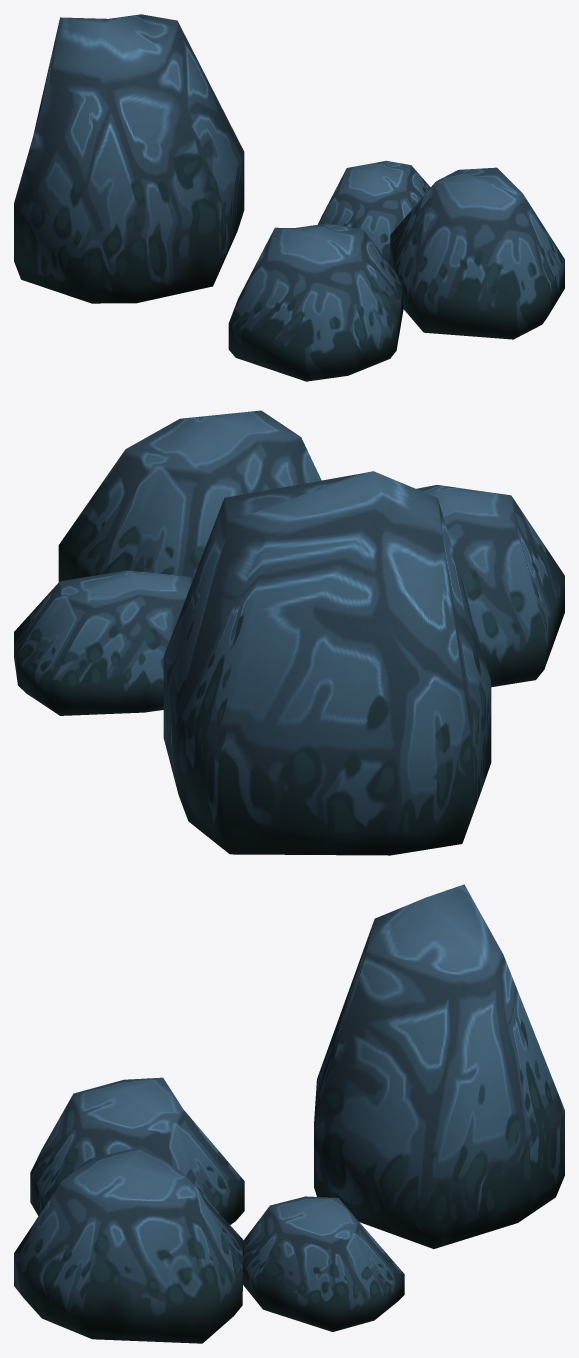
Rendered from RockGroup2.FBX.
The picture shows the model from 3 angles, top to bottom: view 1: azimuth 30°, elevation 25°; view 2: azimuth 150°, elevation 25°; view 3: azimuth 270°, elevation 25°; orthographic projection. The views are drawn at different scales.
Visible parts, largest first — view 1: RockGroup2; view 2: RockGroup2; view 3: RockGroup2.
Part boxes in pixels (x1,y1,x2,y2): RockGroup2: (14, 14, 564, 381); RockGroup2: (14, 410, 564, 855); RockGroup2: (14, 884, 564, 1343).
Size of the model in its own units: 46.89 by 27.26 by 49.52.
